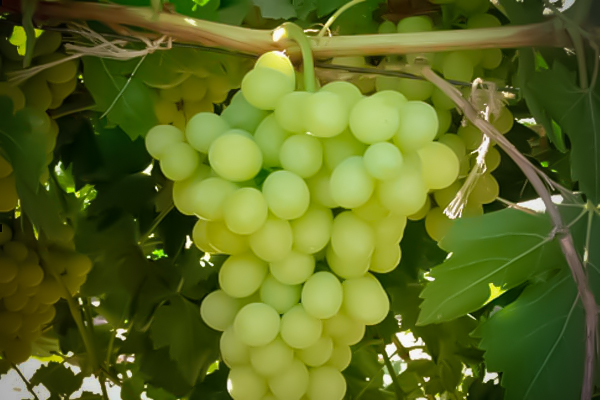Green grapes: (149, 34, 462, 400)
